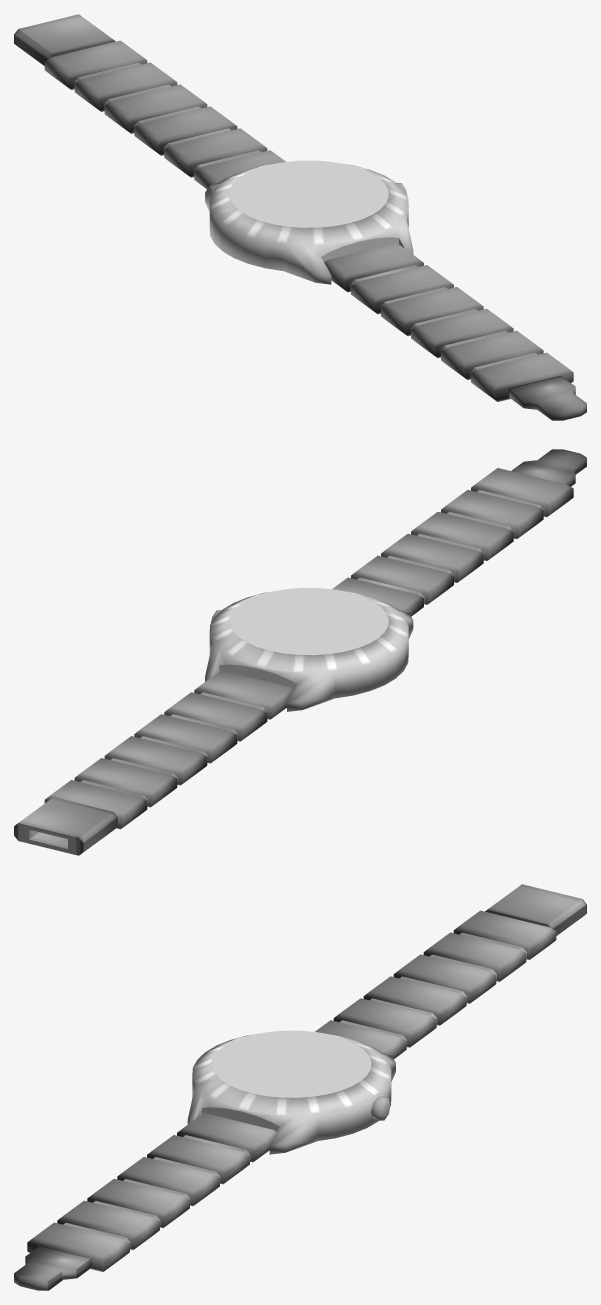
The model's file is Watch.fbx.
3 views of the same model, one above another, from view 1: azimuth 30°, elevation 25°; view 2: azimuth 150°, elevation 25°; view 3: azimuth 330°, elevation 25° (orthographic).
Visible parts, largest first — view 1: Watch; view 2: Watch; view 3: Watch.
Boxes of the visible parts, x1,y1,x2,y2 form: Watch: [14, 14, 586, 420]; Watch: [14, 449, 586, 855]; Watch: [14, 884, 586, 1290].
Size of the model in its own units: 210 by 40 by 1049.
